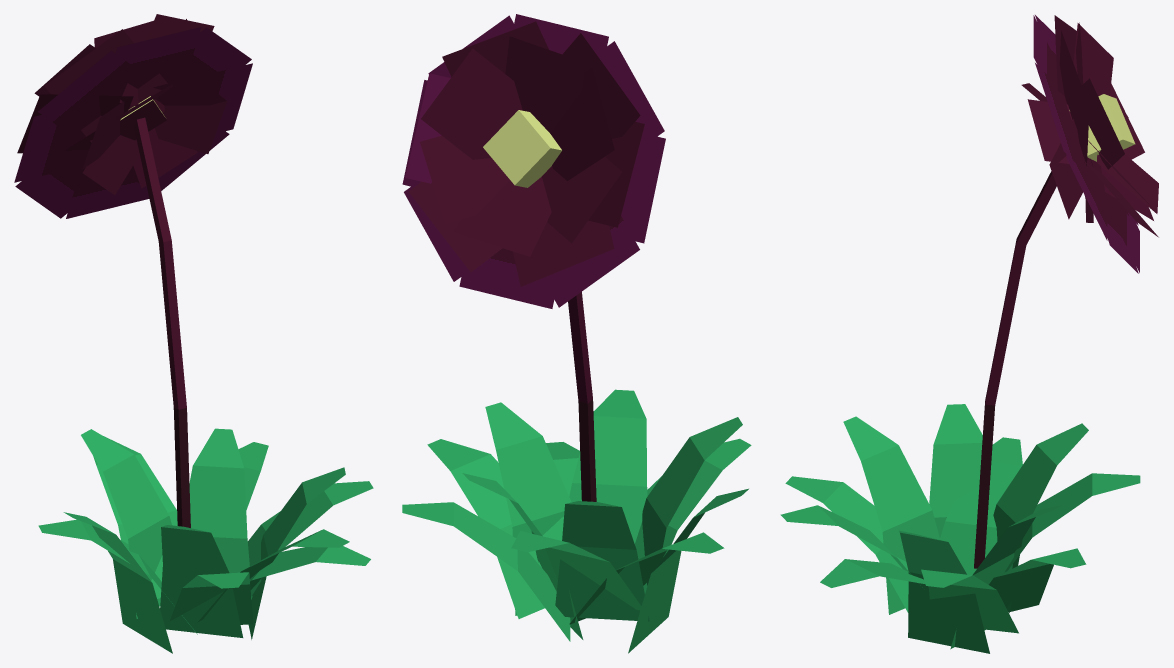
The model's file is Black Dahlia.gltf.
3 views of the same model, side by side, from view 1: azimuth 30°, elevation 25°; view 2: azimuth 150°, elevation 25°; view 3: azimuth 270°, elevation 25° (orthographic). The views are drawn at different scales.
Visible parts, largest first — view 1: plane (×14), cube (×4); view 2: plane (×15), cube (×3); view 3: plane (×12), cube (×4).
Boxes of the visible parts, x1,y1,x2,y2 form: plane (×14): [14, 14, 373, 653]; cube (×4): [120, 96, 190, 527]; plane (×15): [402, 14, 751, 653]; cube (×3): [483, 110, 596, 501]; plane (×12): [780, 15, 1158, 653]; cube (×4): [974, 94, 1135, 568].
Bounding box in the file's own units: 0.1106 × 0.2045 × 0.1178.
1 material, 1 textured.
